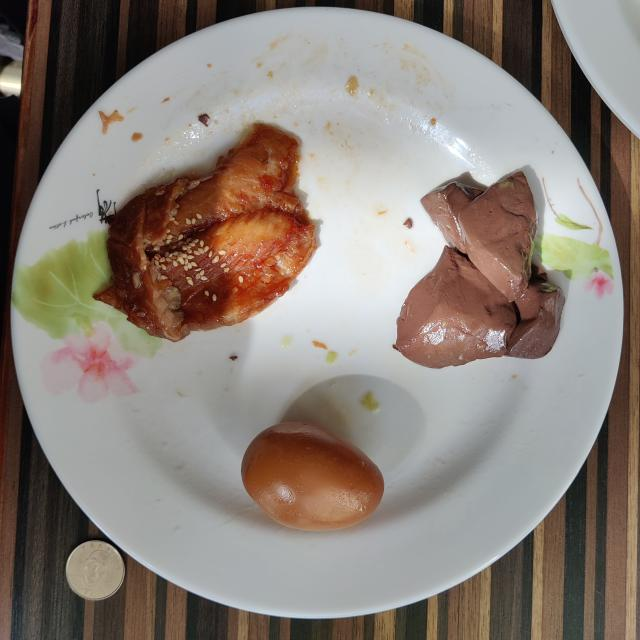Kabayaki sea bream fillet: (94, 122, 316, 341)
coin: (66, 540, 125, 600)
pig blood curd: (395, 171, 565, 369)
soy egg: (241, 422, 384, 530)
